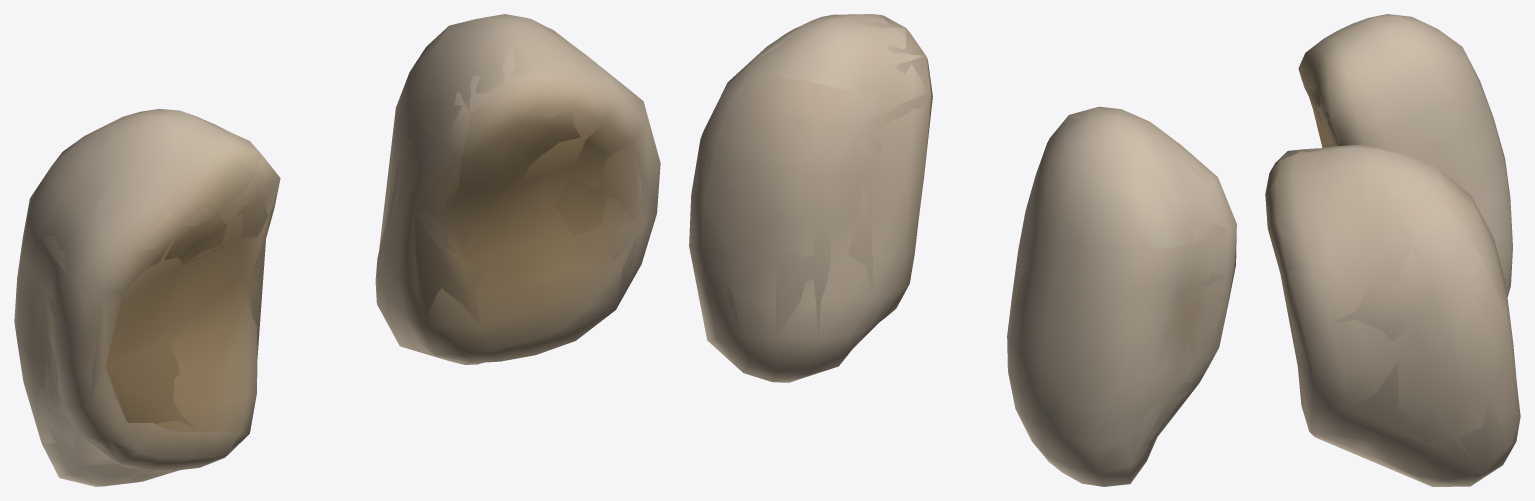
The model's file is FR sesamoidea proximalia.fbx.
3 renders of one model, left to right at view 1: azimuth 30°, elevation 25°; view 2: azimuth 150°, elevation 25°; view 3: azimuth 270°, elevation 25°, orthographic. The views are drawn at different scales.
Visible parts, largest first — view 1: FR sesamoidea proximalia, FR sesamoidea proximalia low; view 2: FR sesamoidea proximalia, FR sesamoidea proximalia low; view 3: FR sesamoidea proximalia, FR sesamoidea proximalia low.
Part boxes in pixels (<box>): FR sesamoidea proximalia: <box>14,14,660,486</box>; FR sesamoidea proximalia low: <box>23,18,647,486</box>; FR sesamoidea proximalia: <box>689,14,1236,486</box>; FR sesamoidea proximalia low: <box>689,15,1228,480</box>; FR sesamoidea proximalia: <box>1265,14,1520,486</box>; FR sesamoidea proximalia low: <box>1265,47,1520,485</box>.
Bounding box in the file's own units: 4.94 × 3.33 × 2.14.
1 material, 1 textured.
